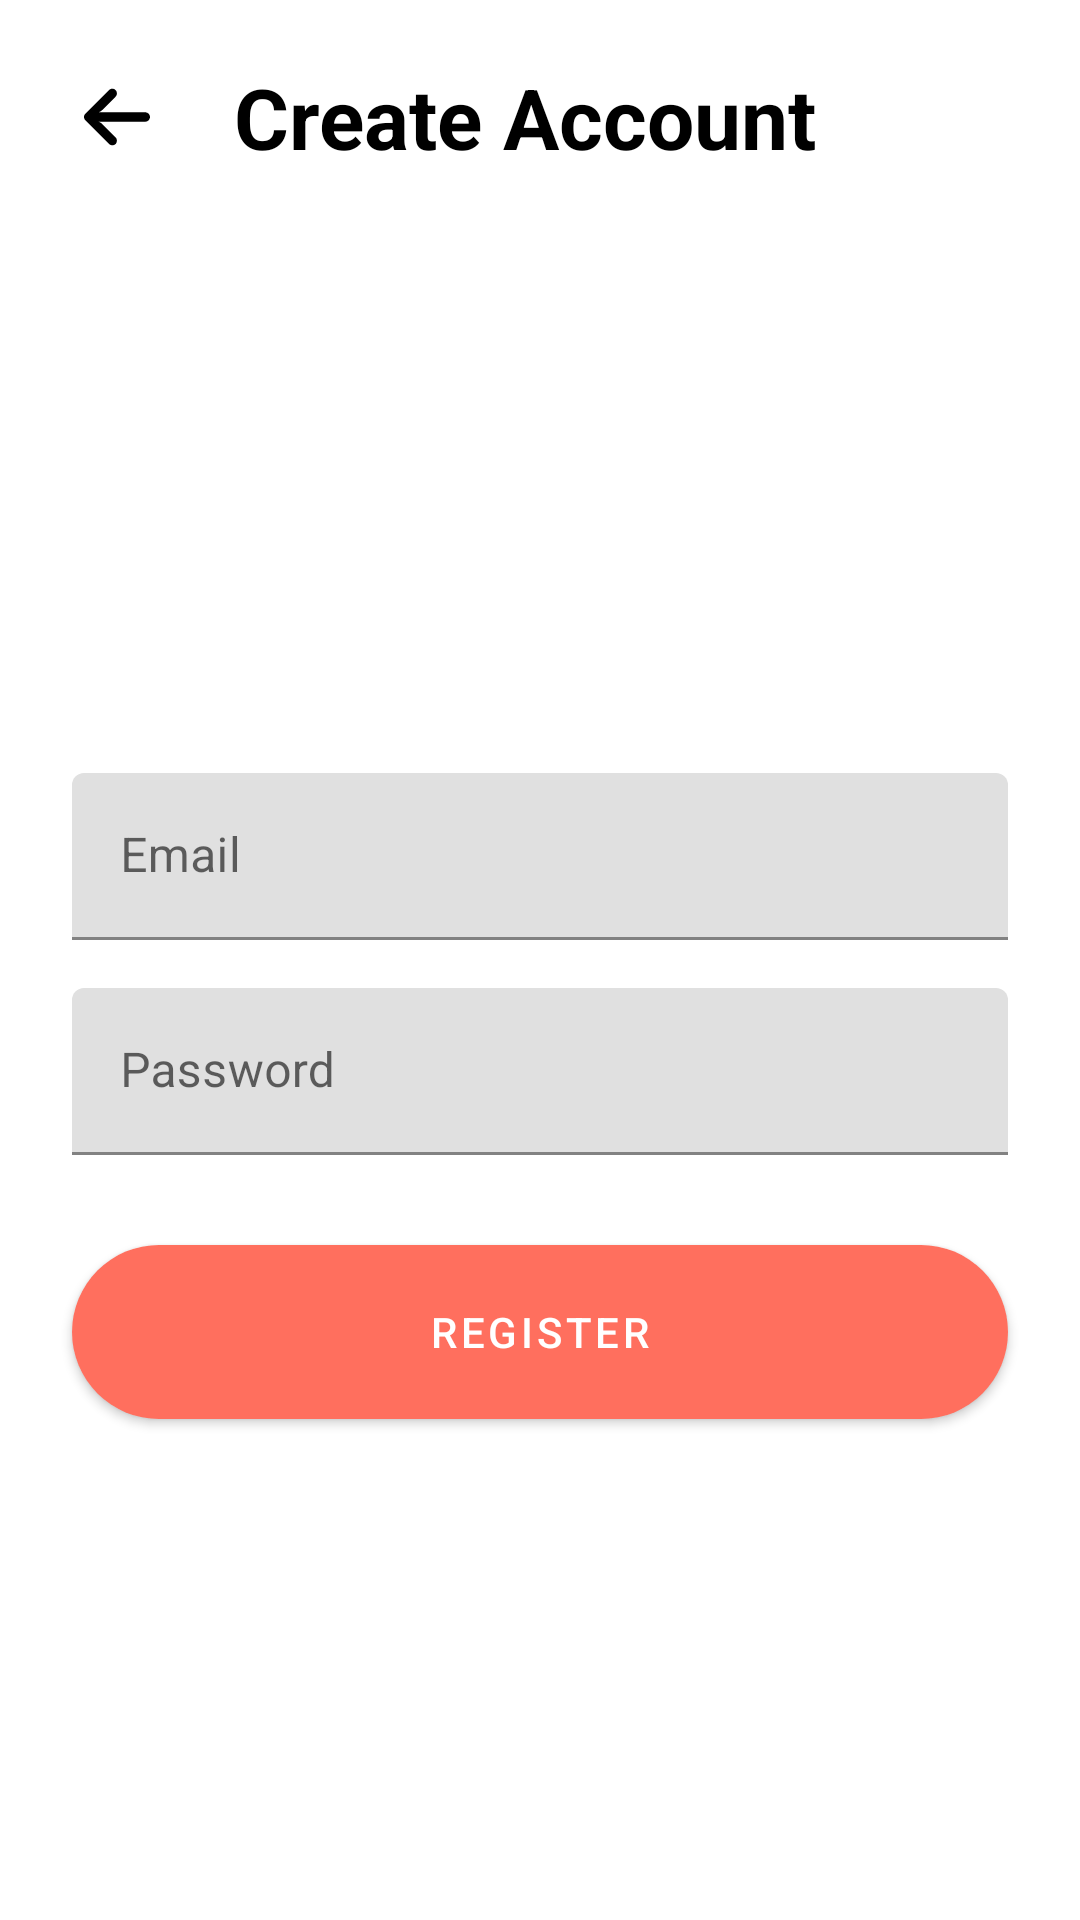

Icons on this 1080 × 1920 Android screen, each with its box as (x1, y1, x2, y2):
arrow: (84, 88, 150, 146)
